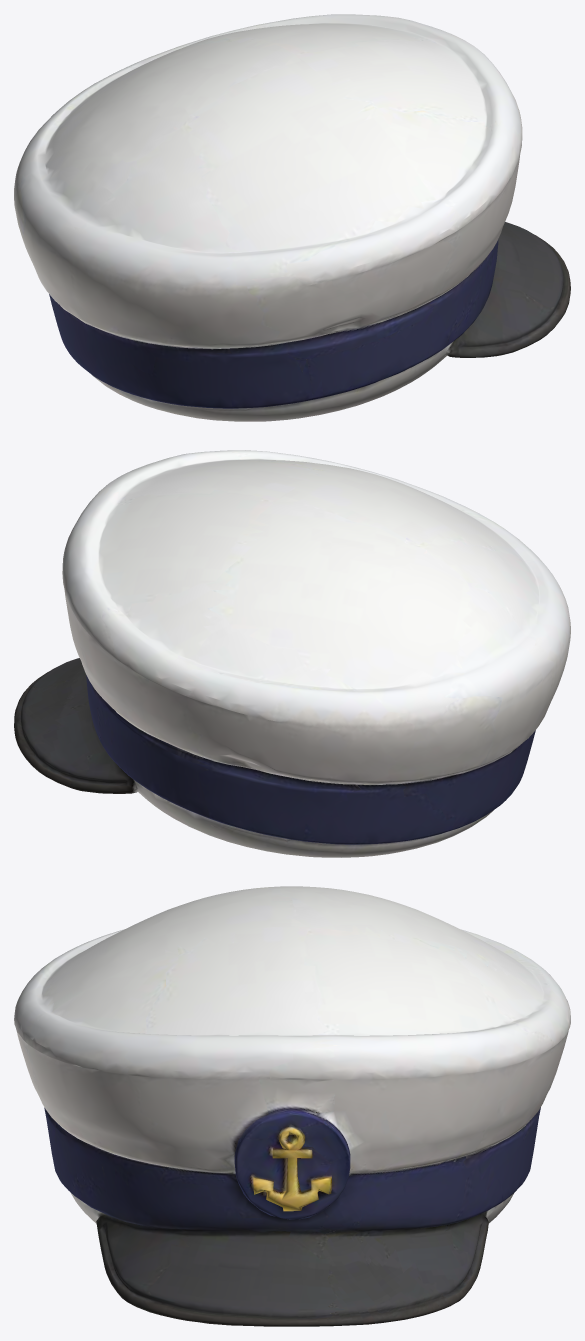
File: hat_sailor.glb
3 renders of one model, top to bottom at view 1: azimuth 30°, elevation 25°; view 2: azimuth 150°, elevation 25°; view 3: azimuth 270°, elevation 25°, orthographic. The views are drawn at different scales.
Visible parts, largest first — view 1: tripo_node_c18af605-f8ca-4bbc-8ef6-35fd38fdb867; view 2: tripo_node_c18af605-f8ca-4bbc-8ef6-35fd38fdb867; view 3: tripo_node_c18af605-f8ca-4bbc-8ef6-35fd38fdb867.
Boxes of the visible parts, x1,y1,x2,y2 form: tripo_node_c18af605-f8ca-4bbc-8ef6-35fd38fdb867: (14, 14, 570, 421); tripo_node_c18af605-f8ca-4bbc-8ef6-35fd38fdb867: (14, 450, 570, 857); tripo_node_c18af605-f8ca-4bbc-8ef6-35fd38fdb867: (14, 886, 570, 1326).
Bounding box in the file's own units: 1 × 0.5377 × 0.8852.
Materials: 1 (1 with a texture image).
